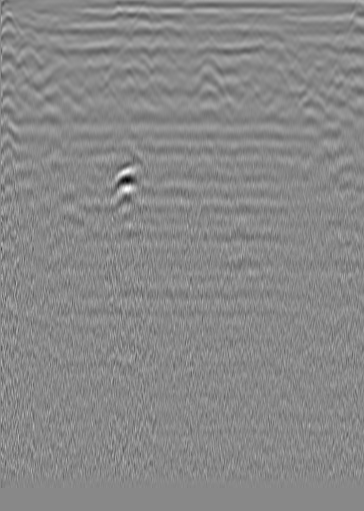가스: (110, 156, 147, 200)
상수: (19, 19, 39, 39)
오수: (312, 19, 332, 39)
우수: (158, 19, 178, 39)
